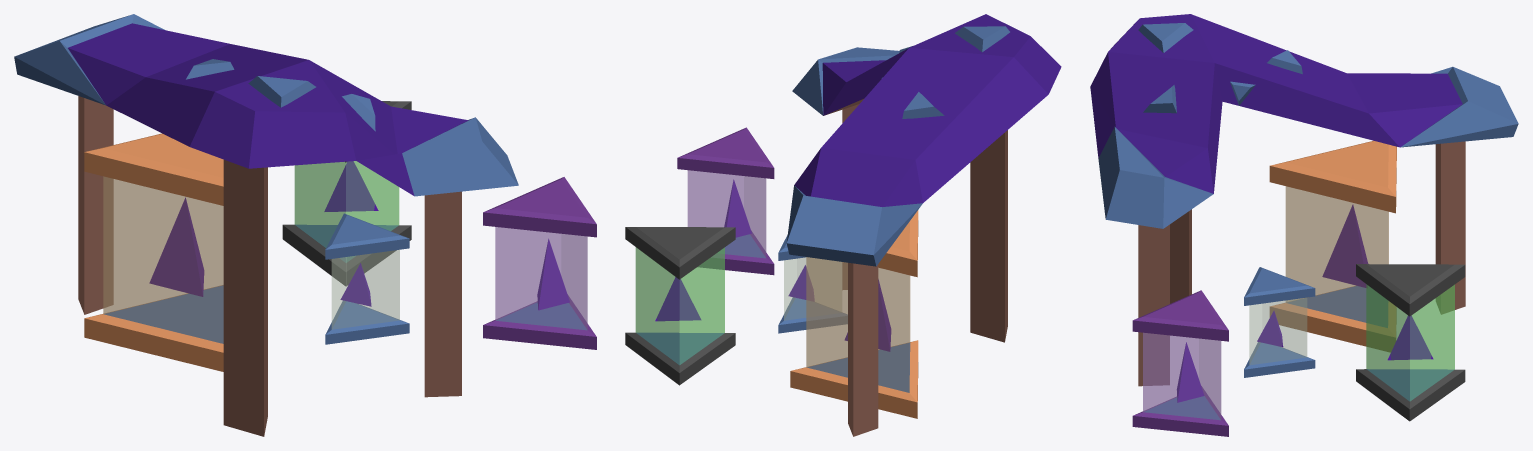
The model's file is Pests-Market.fbx.
The picture shows the model from 3 angles, left to right: view 1: azimuth 30°, elevation 25°; view 2: azimuth 150°, elevation 25°; view 3: azimuth 270°, elevation 25°; orthographic projection. The views are drawn at different scales.
Visible parts, largest first — view 1: Pests-Market; view 2: Pests-Market; view 3: Pests-Market.
Boxes of the visible parts, box(x1,y1,x2,y2) form: Pests-Market: box(14, 14, 596, 436); Pests-Market: box(625, 14, 1061, 436); Pests-Market: box(1090, 14, 1518, 436).
Size of the model in its own units: 0.8468 by 0.9158 by 0.6894.
